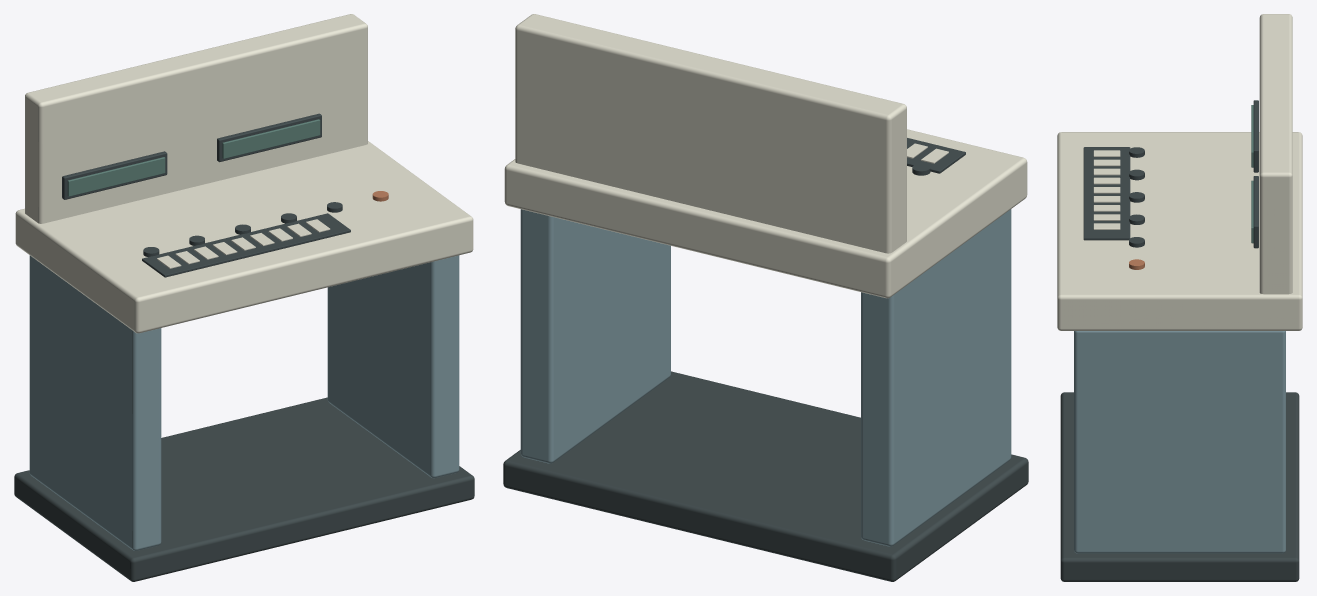
File: abandoned-tidal-model-testing-hall-basin-control-conso-865ca380__32371.glb
3 renders of one model, left to right at view 1: azimuth 30°, elevation 25°; view 2: azimuth 150°, elevation 25°; view 3: azimuth 270°, elevation 25°, orthographic. The views are drawn at different scales.
Visible parts, largest first — view 1: basin-control-console; view 2: basin-control-console; view 3: basin-control-console.
Boxes of the visible parts, x1,y1,x2,y2 form: basin-control-console: [14, 14, 474, 581]; basin-control-console: [503, 14, 1028, 581]; basin-control-console: [1057, 14, 1302, 581].
Bounding box in the file's own units: 1.2 × 1.35 × 0.74.
